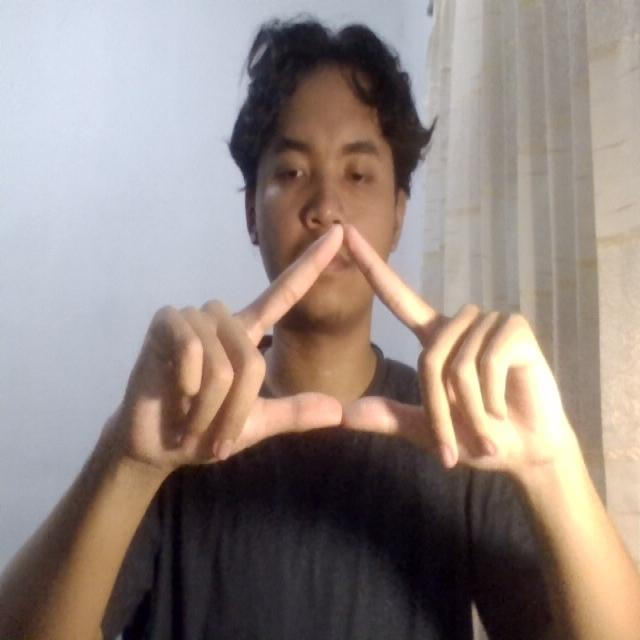A: (102, 209, 573, 495)
